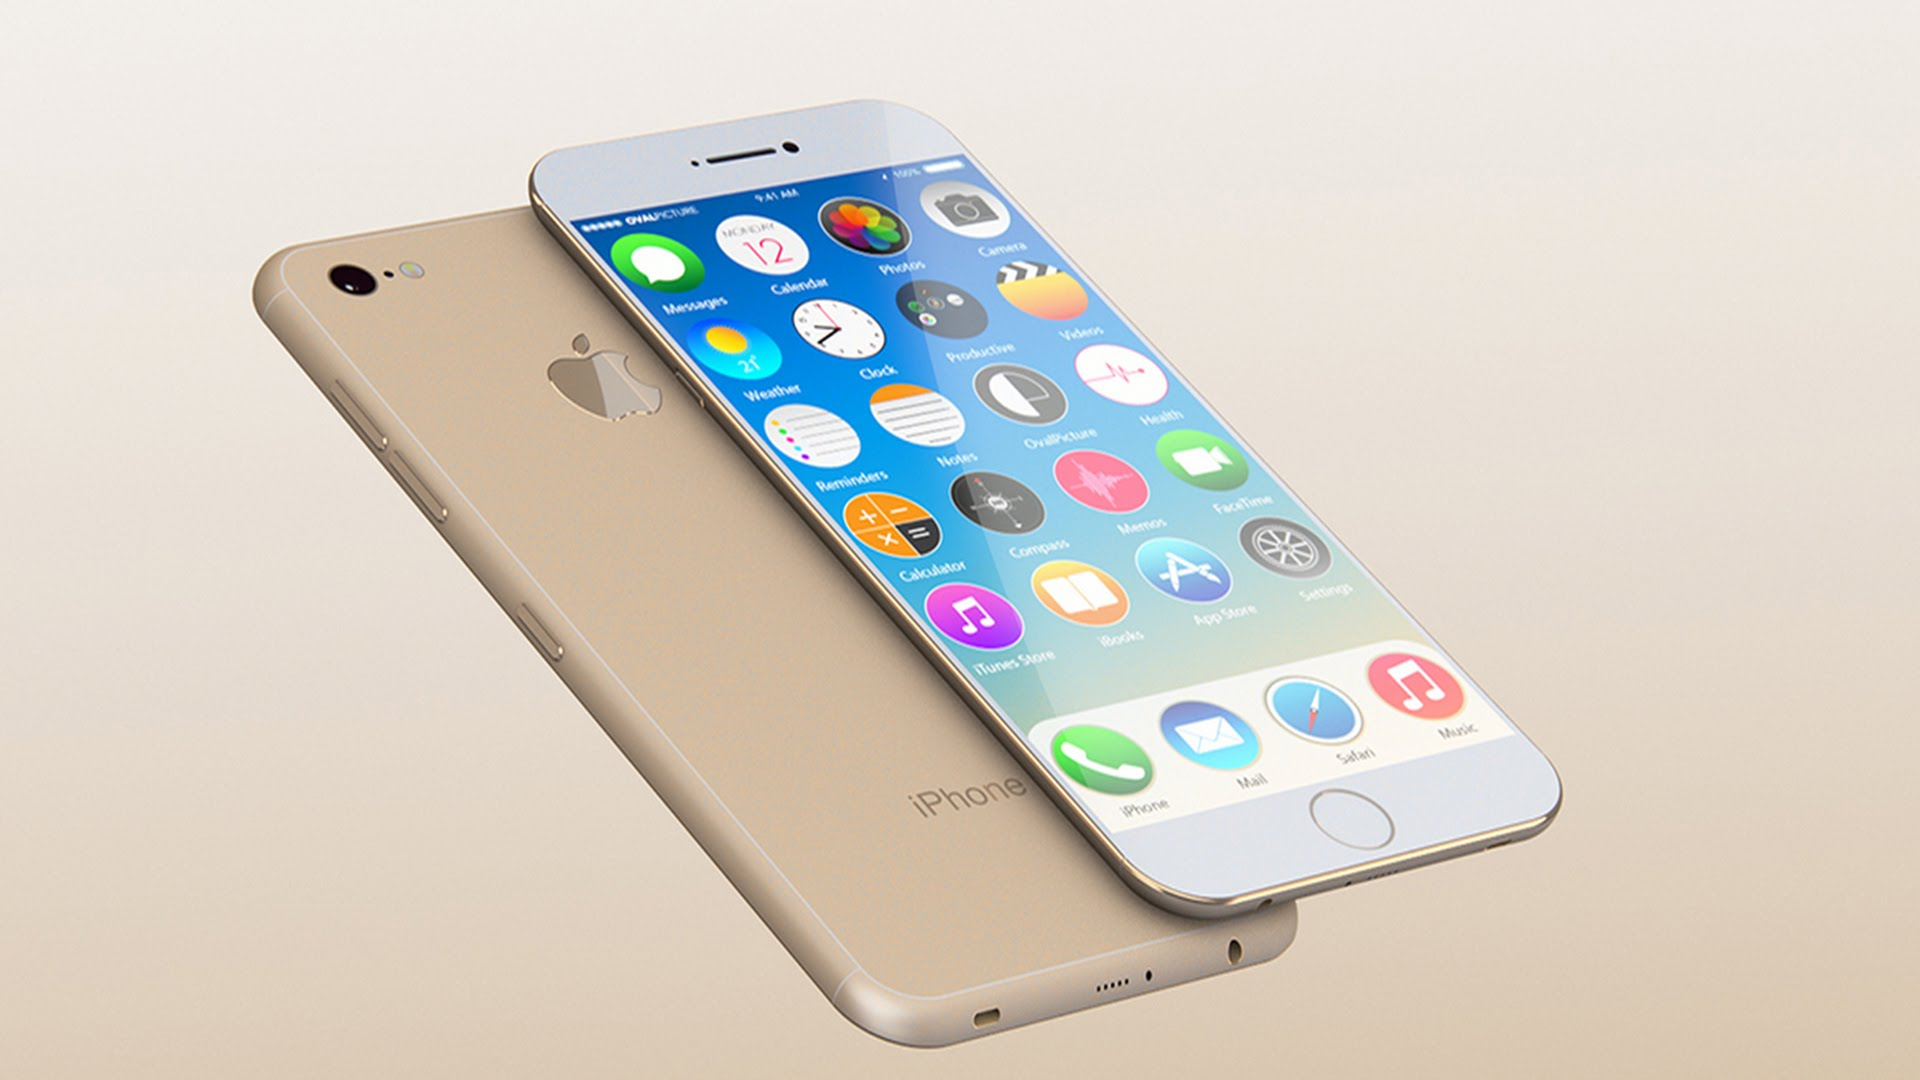smartphone: (252, 204, 1299, 1050), (526, 96, 1565, 923)
